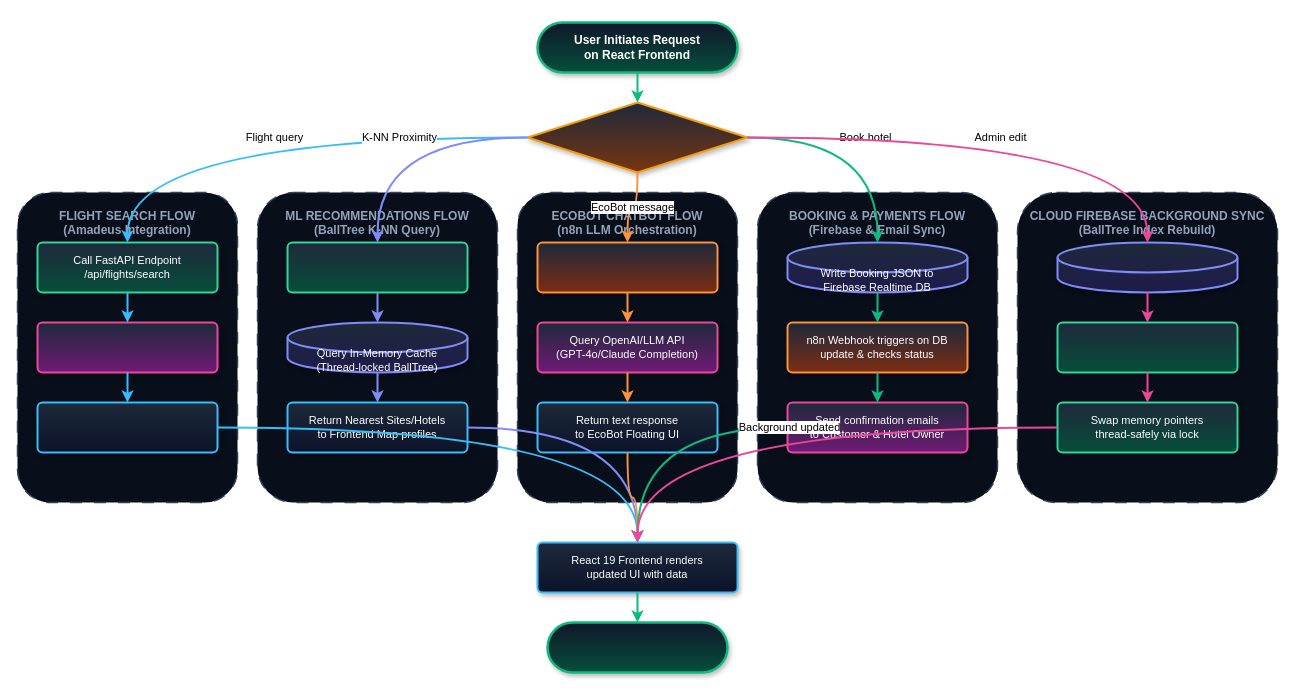
The diagram is 1296 pixels wide and 698 high, and some of its shapes have lost their labels. Here are the shapes that lost their labels. From the top down, the centre of each, then its label:
pixel 638 138: Determine Request Type (SPA Route / Component Action)
pixel 378 268: Call FastAPI Endpoint /recommend/hotels or /sites
pixel 628 268: Post message payload to n8n Chat Webhook
pixel 1148 268: Firestore destinations change detected by gRPC
pixel 128 348: Query Amadeus API (Fallback to simulated data)
pixel 1148 348: Trigger worker thread to rebuild BallTree index
pixel 128 428: Return Flight Offers to Trip Planner UI
pixel 638 648: End: User Request Satisfied & UI Idle
